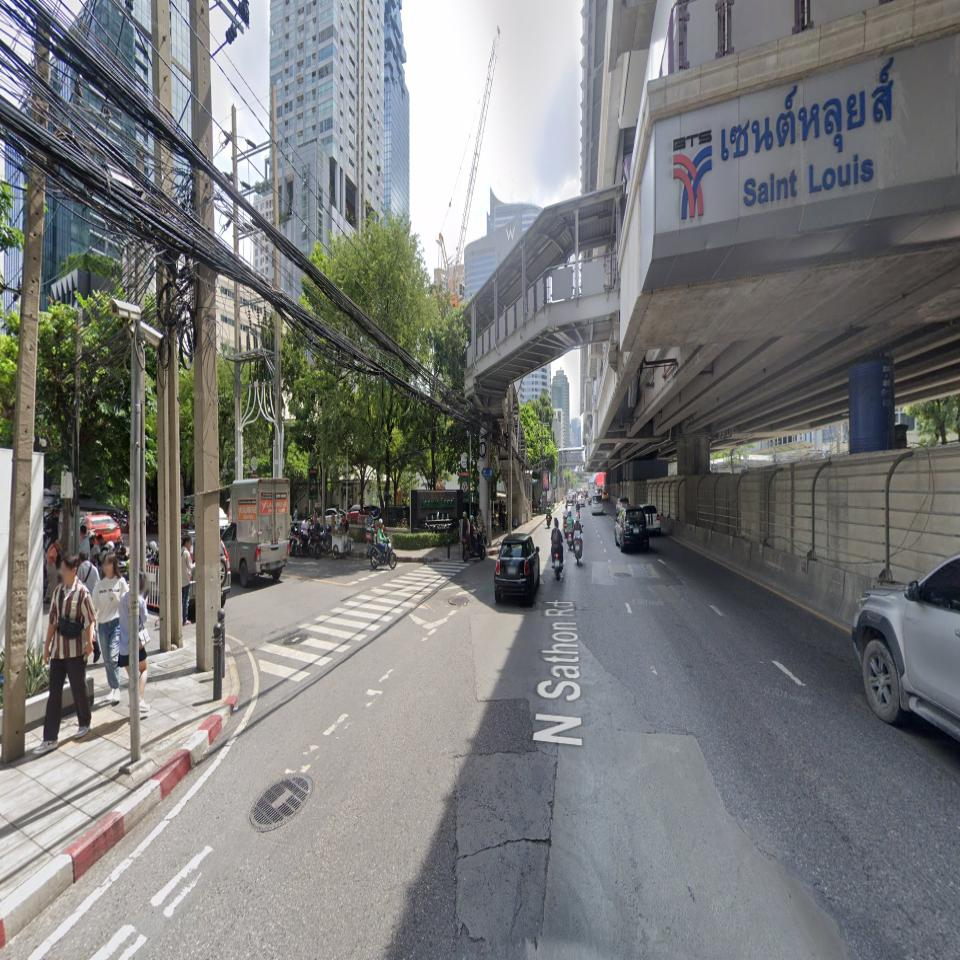signage: (671, 51, 896, 223), (721, 52, 895, 209)
